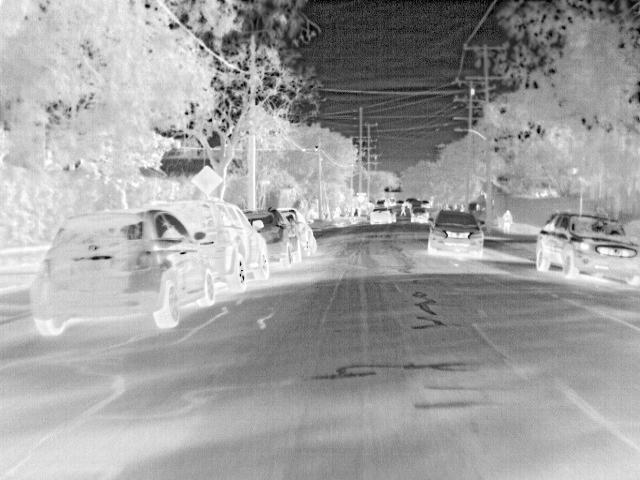car: (31, 208, 218, 338), (150, 193, 270, 290), (530, 210, 640, 289), (238, 209, 302, 265), (427, 210, 485, 261), (279, 206, 318, 256), (369, 207, 398, 227), (413, 208, 428, 222), (410, 199, 422, 208), (406, 196, 416, 206), (421, 199, 431, 209), (398, 197, 406, 204)
person: (501, 208, 515, 235)
